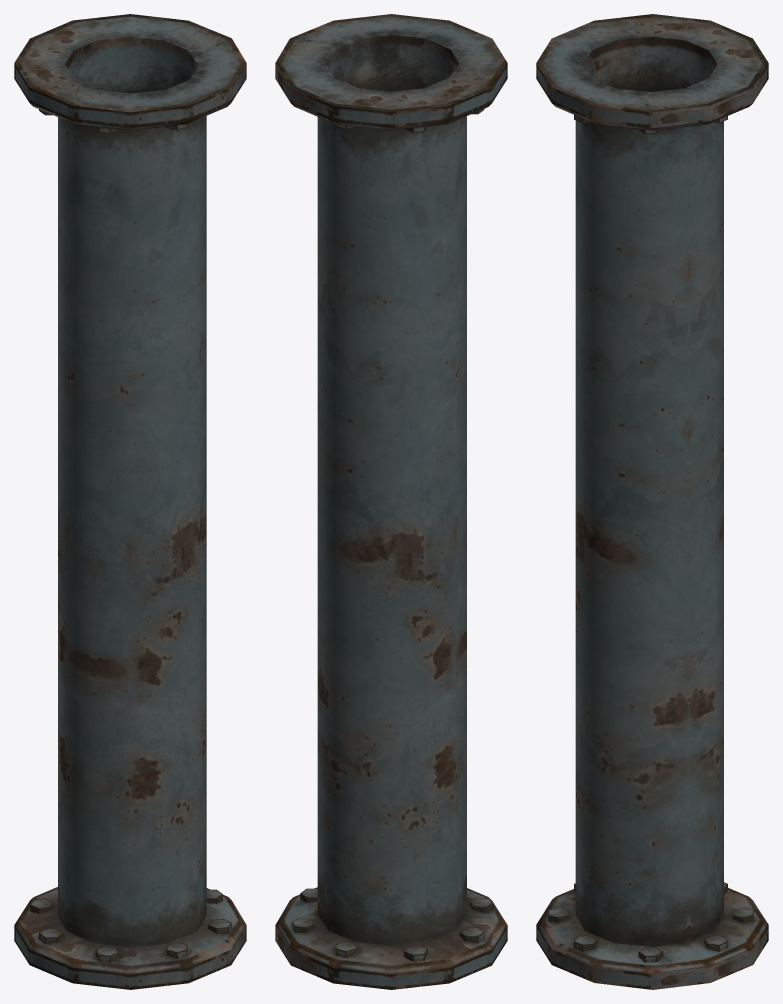
Rendered from pipe_pipe01.fbx.
The picture shows the model from 3 angles, left to right: view 1: azimuth 30°, elevation 25°; view 2: azimuth 150°, elevation 25°; view 3: azimuth 270°, elevation 25°; orthographic projection.
Visible parts, largest first — view 1: modular_industrial_pipes_01_group01__modular_industrial_pipe; view 2: modular_industrial_pipes_01_group01__modular_industrial_pipe; view 3: modular_industrial_pipes_01_group01__modular_industrial_pipe.
Part boxes in pixels (<box>): modular_industrial_pipes_01_group01__modular_industrial_pipe: <box>14,14,246,989</box>; modular_industrial_pipes_01_group01__modular_industrial_pipe: <box>275,14,507,989</box>; modular_industrial_pipes_01_group01__modular_industrial_pipe: <box>536,14,768,989</box>.
Size of the model in its own units: 0.2071 by 0.8591 by 0.2063.
